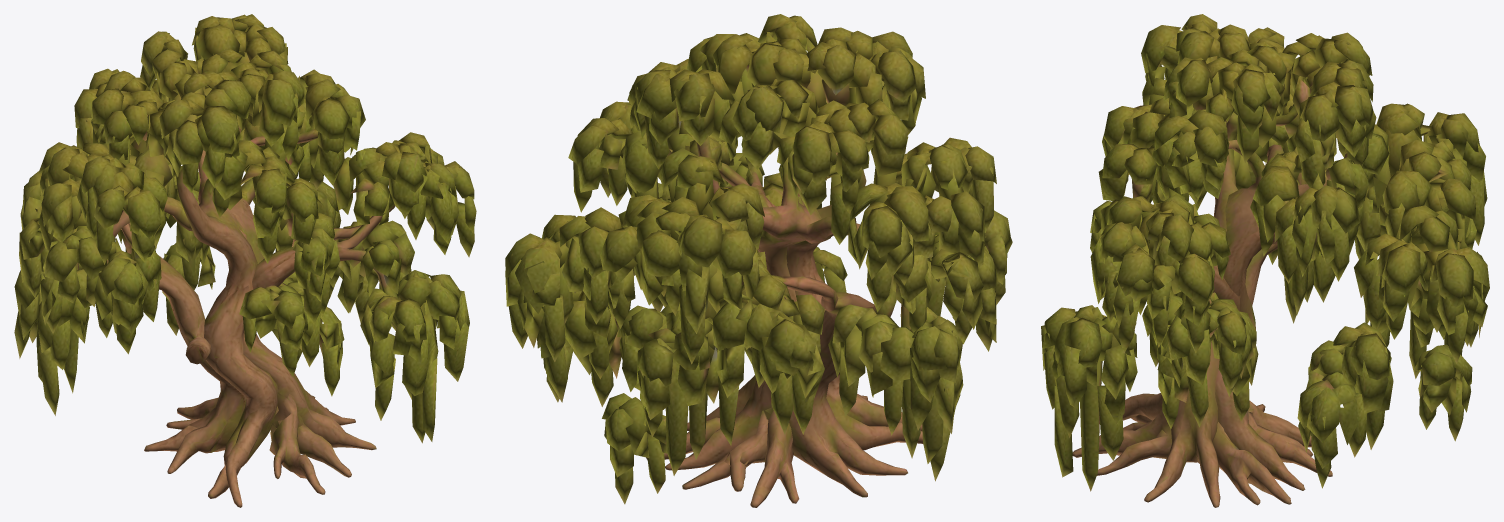
Rendered from willow-grove.glb.
3 views of the same model, side by side, from view 1: azimuth 30°, elevation 25°; view 2: azimuth 150°, elevation 25°; view 3: azimuth 270°, elevation 25° (orthographic). The views are drawn at different scales.
Parts seen in each view (by area): view 1: willow-grove_LOD0; view 2: willow-grove_LOD0; view 3: willow-grove_LOD0.
Part boxes in pixels (x1,y1,x2,y2): willow-grove_LOD0: (14, 14, 476, 507); willow-grove_LOD0: (505, 14, 1012, 507); willow-grove_LOD0: (1041, 14, 1489, 507).
Size of what is drawn, in the model's own units: 1 by 0.9794 by 0.9731.
1 material, 1 textured.
